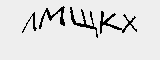К: (98, 6, 122, 40)
Л: (19, 8, 38, 37)
М: (36, 5, 68, 33)
Х: (122, 10, 141, 37)
Щ: (68, 2, 99, 43)
